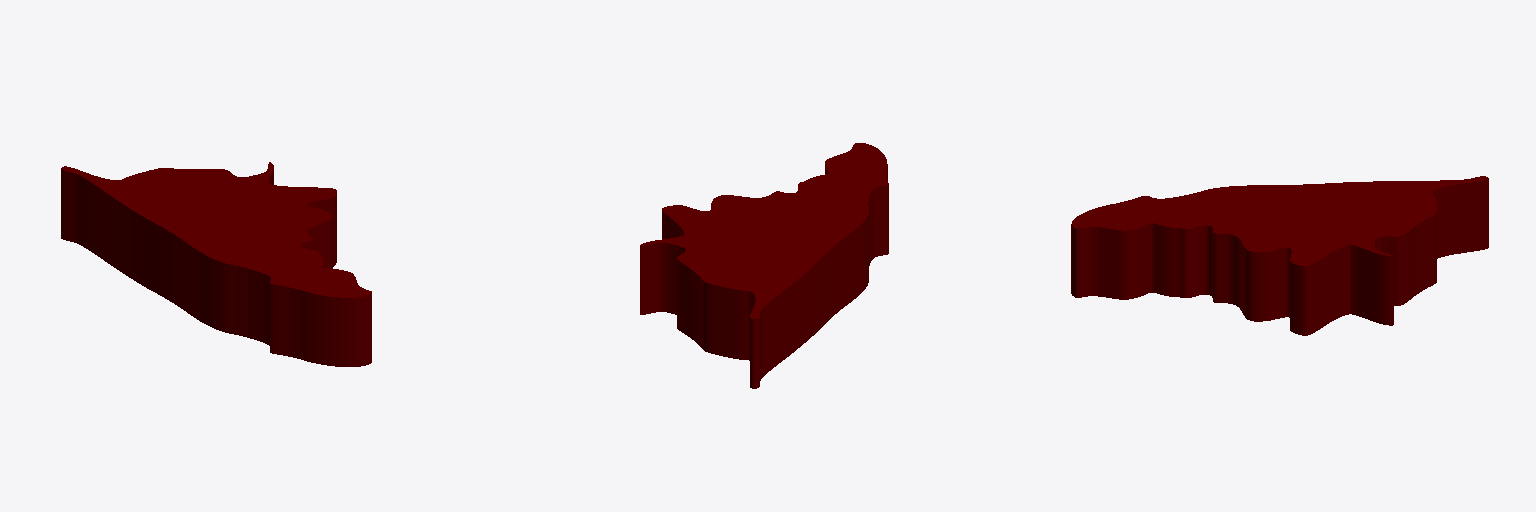
The model's file is South_America_01.obj.
The picture shows the model from 3 angles: view 1: azimuth 30°, elevation 25°; view 2: azimuth 150°, elevation 25°; view 3: azimuth 270°, elevation 25°; orthographic projection.
Visible parts, largest first — view 1: South_America_01_path4216; view 2: South_America_01_path4216; view 3: South_America_01_path4216.
Boxes of the visible parts, x1=… form: South_America_01_path4216: x1=61, y1=162, x2=371, y2=366; South_America_01_path4216: x1=640, y1=143, x2=888, y2=388; South_America_01_path4216: x1=1071, y1=176, x2=1488, y2=335.
Bounding box in the file's own units: 0.2797 × 0.1 × 0.5451.